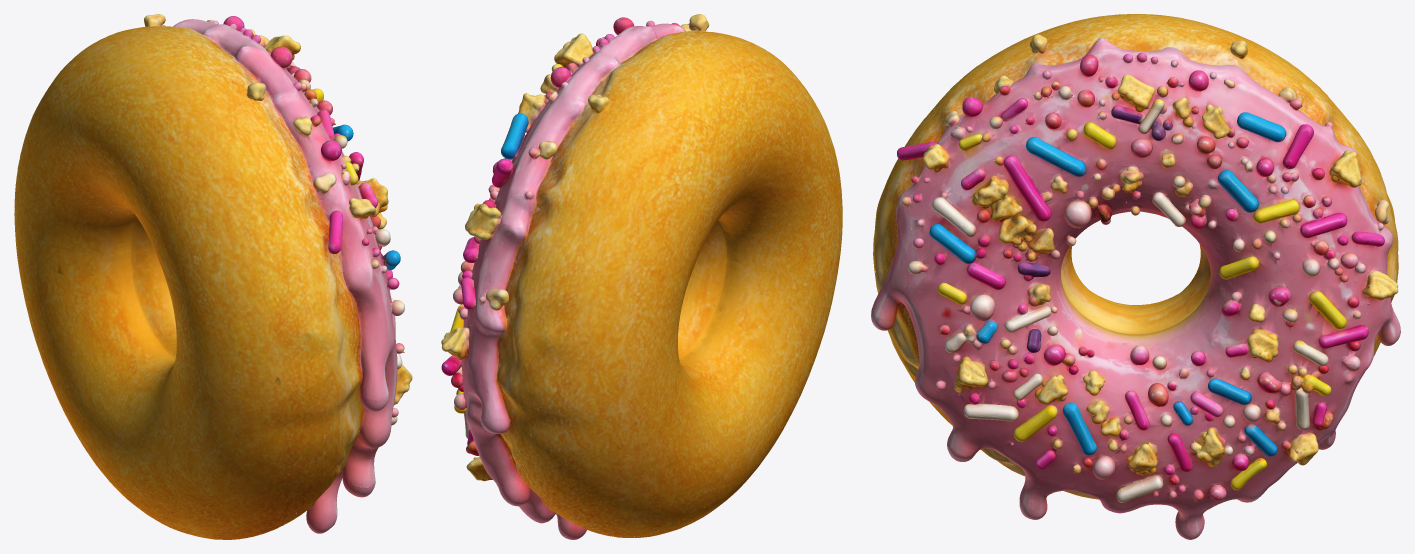
The model's file is donut.glb.
The picture shows the model from 3 angles, left to right: view 1: azimuth 30°, elevation 25°; view 2: azimuth 150°, elevation 25°; view 3: azimuth 270°, elevation 25°; orthographic projection.
Visible parts, largest first — view 1: tripo_node_c45138b7-89b1-49f6-b29e-6462b6483fa0; view 2: tripo_node_c45138b7-89b1-49f6-b29e-6462b6483fa0; view 3: tripo_node_c45138b7-89b1-49f6-b29e-6462b6483fa0.
Boxes of the visible parts, x1,y1,x2,y2 form: tripo_node_c45138b7-89b1-49f6-b29e-6462b6483fa0: [14, 14, 412, 539]; tripo_node_c45138b7-89b1-49f6-b29e-6462b6483fa0: [441, 14, 842, 539]; tripo_node_c45138b7-89b1-49f6-b29e-6462b6483fa0: [871, 14, 1400, 539].
Bounding box in the file's own units: 0.4692 × 1 × 0.9904.
Materials: 1 (1 with a texture image).
